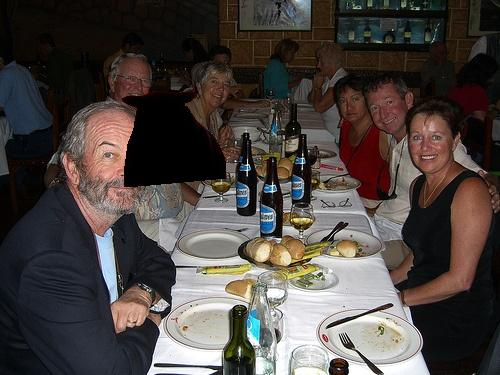tampered: (123, 92, 226, 187)
